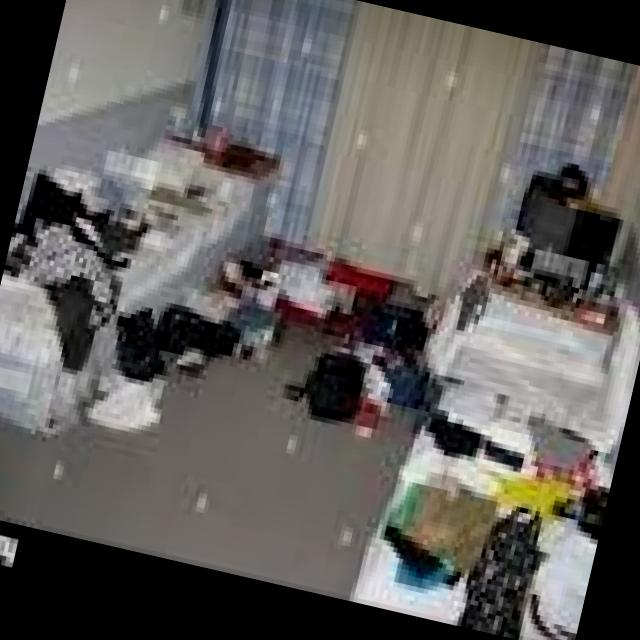mess: (402, 331, 636, 640), (0, 81, 171, 427), (123, 286, 410, 454), (232, 232, 444, 446), (455, 202, 640, 357), (157, 109, 283, 218), (153, 193, 230, 272)
